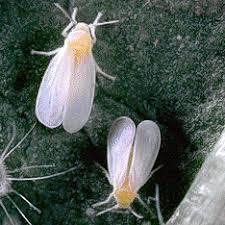Tobacco Whitefly: (38, 5, 95, 143), (96, 112, 162, 212)
